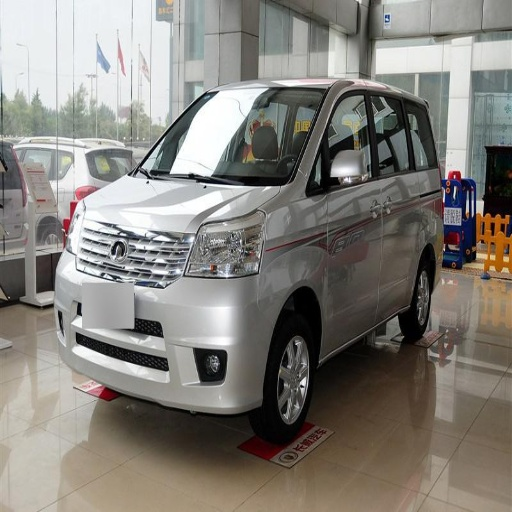front_bumper: (57, 226, 282, 407)
front_glass: (129, 88, 327, 183)
front_left_door: (318, 87, 397, 351)
